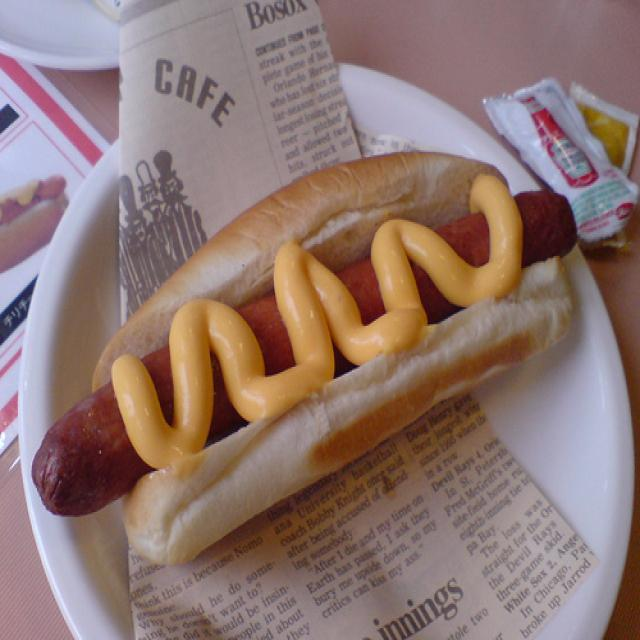Hot Dog: (15, 148, 584, 550)
